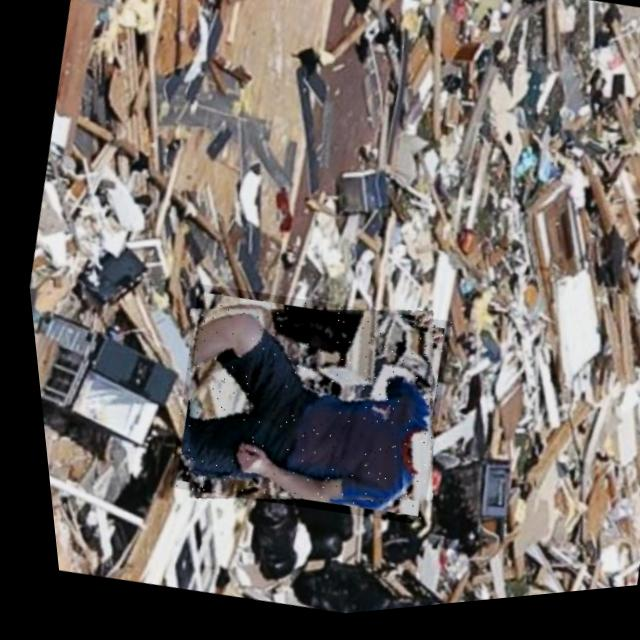Person in Rubble: (141, 268, 459, 551)
